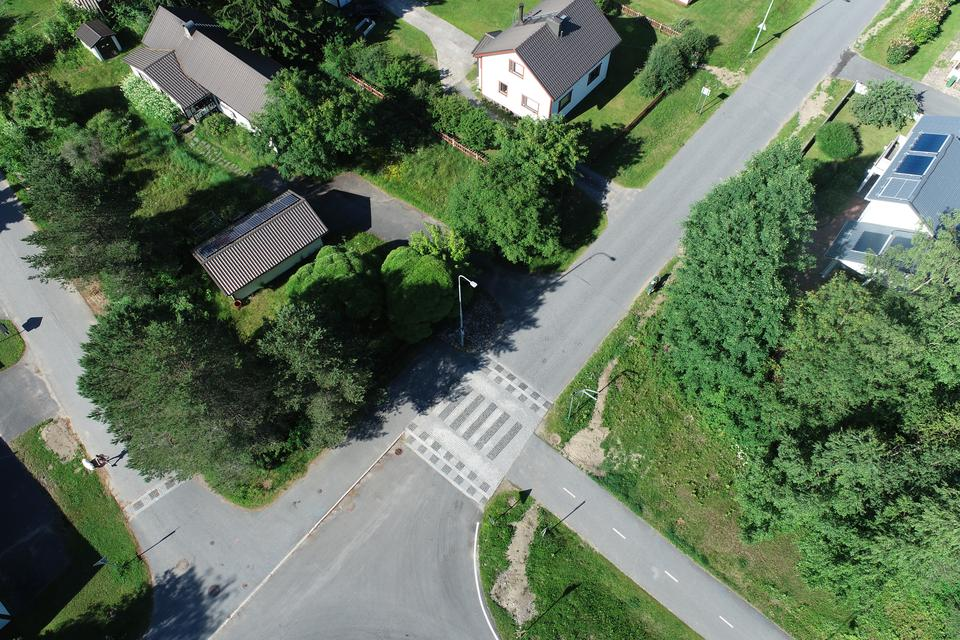intersection: (333, 310, 591, 554), (70, 462, 313, 640), (749, 0, 894, 116)
